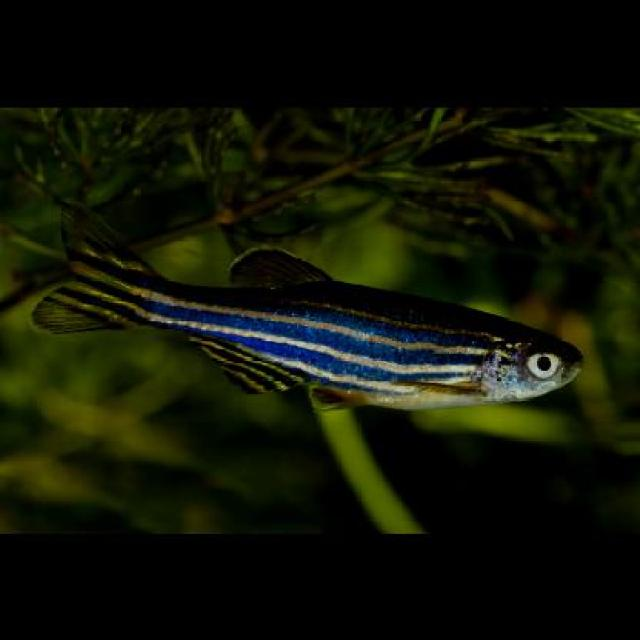ZebraFish: (31, 197, 582, 409)
